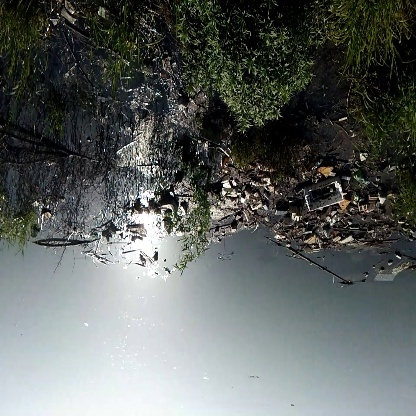branch: (286, 246, 351, 289)
plastic-garbage: (301, 178, 349, 215)
